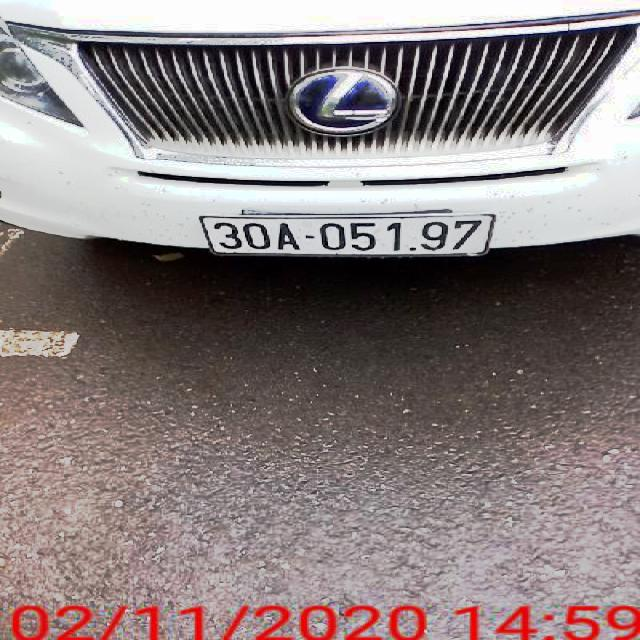license_plate: (204, 213, 499, 257)
